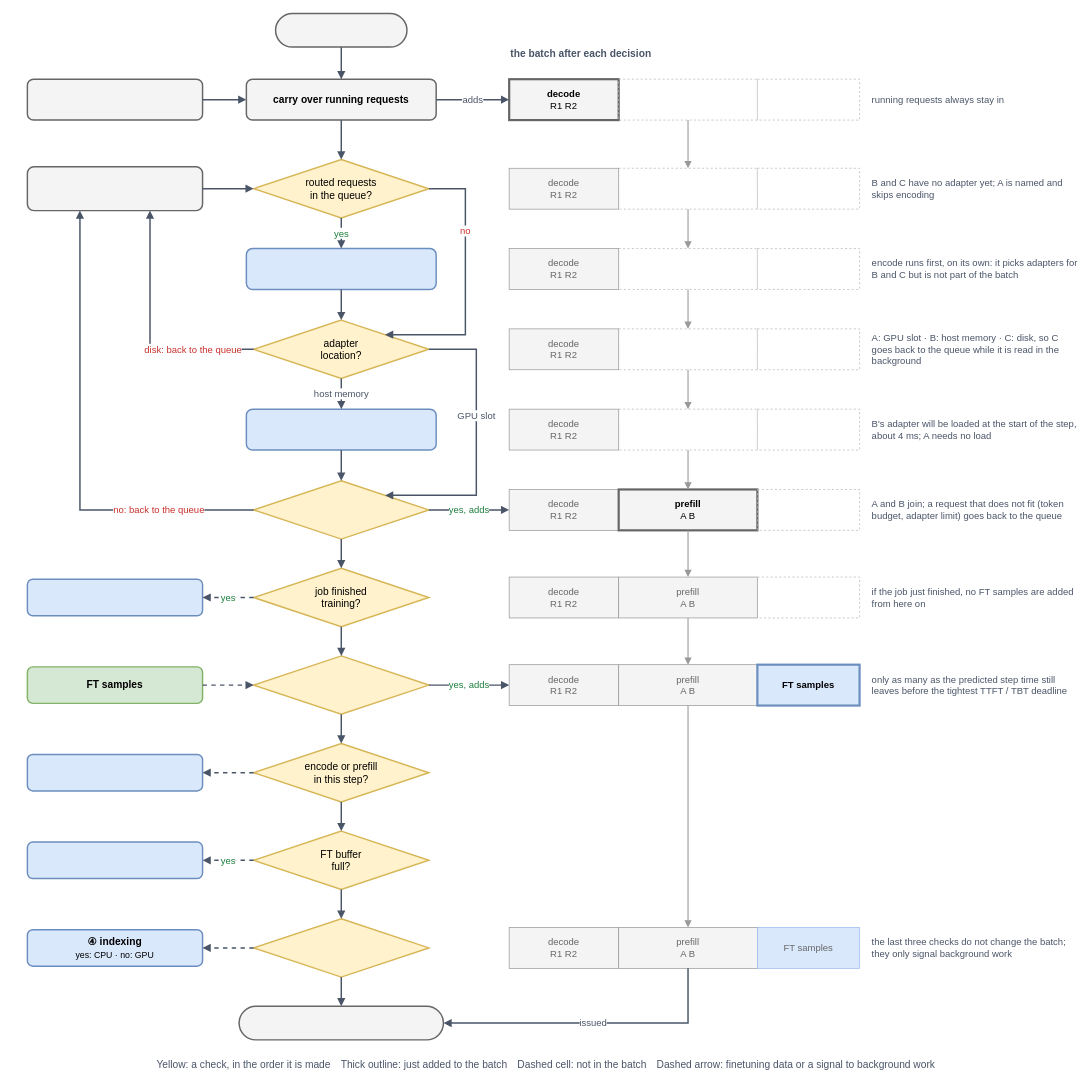
The diagram is 1091 pixels wide and 1088 high, and some of its shapes have lost their labels. The centre of each missing label's shape, as x and y in pixels:
any inference request present?: point (341, 947)
fits in this batch?: point (341, 509)
FT admission open, SLO slack left?: point (341, 685)
issue ② forward engine batch: point (341, 1022)
load the adapter into a GPU slot: point (341, 429)
next step: point (340, 29)
request queue A named · B, C routed: point (114, 188)
running requests R1 · R2: point (114, 99)
start ⑤ handover FT admission closes until done: point (114, 597)
trigger ③ backward: point (114, 860)
① encode , pick the adapter: point (341, 268)
③ backward yes: paused · no: running: point (114, 772)
